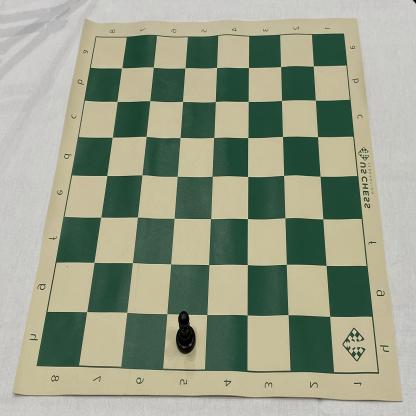black-pawn: (175, 311, 197, 355)
